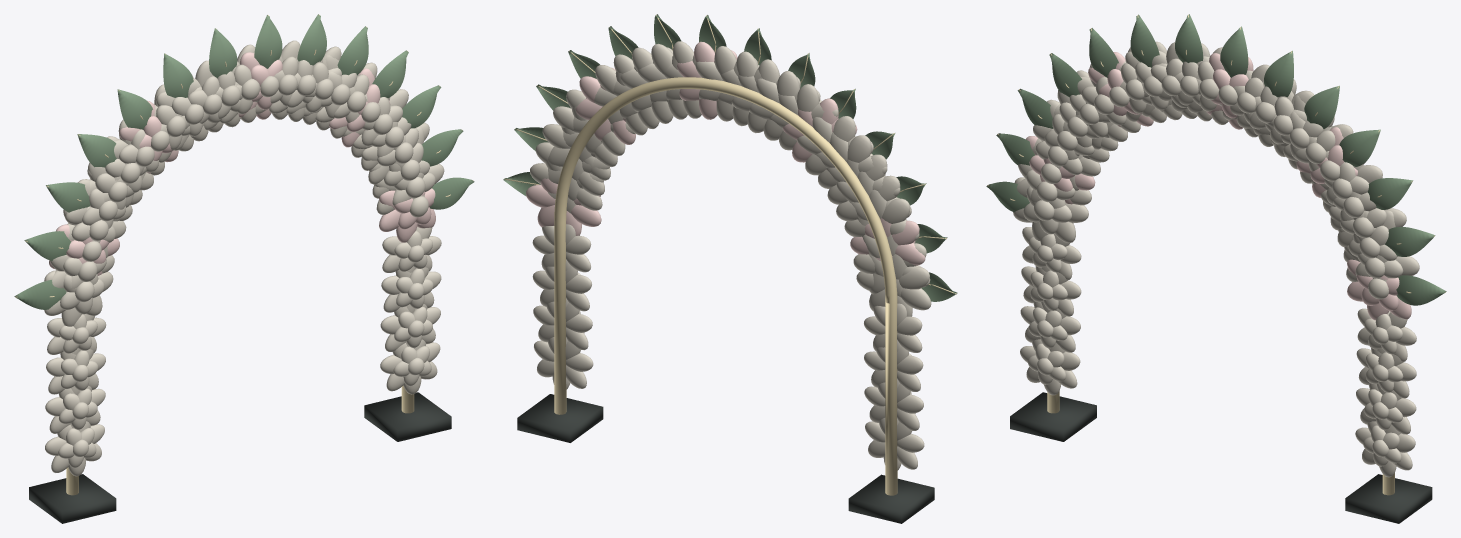
File: floral-arch.glb
3 renders of one model, left to right at view 1: azimuth 30°, elevation 25°; view 2: azimuth 150°, elevation 25°; view 3: azimuth 330°, elevation 25°, orthographic.
Parts seen in each view (by area): view 1: petals-6, leaf-4, heart-3, petals-2, feet-1, arch-frame-0; view 2: petals-6, arch-frame-0, leaf-4, petals-2, feet-1, vein-5; view 3: petals-6, leaf-4, heart-3, petals-2, feet-1.
Boxes of the visible parts, x1=… form: petals-6: x1=44, y1=40, x2=444, y2=476; leaf-4: x1=14, y1=14, x2=474, y2=309; heart-3: x1=72, y1=74, x2=428, y2=457; petals-2: x1=49, y1=52, x2=435, y2=275; feet-1: x1=29, y1=392, x2=451, y2=523; arch-frame-0: x1=66, y1=385, x2=414, y2=495; petals-6: x1=530, y1=41, x2=931, y2=470; arch-frame-0: x1=554, y1=77, x2=897, y2=495; leaf-4: x1=503, y1=14, x2=957, y2=301; petals-2: x1=526, y1=41, x2=925, y2=265; feet-1: x1=517, y1=394, x2=934, y2=523; vein-5: x1=504, y1=14, x2=956, y2=294; petals-6: x1=1013, y1=41, x2=1419, y2=477; leaf-4: x1=986, y1=14, x2=1446, y2=305; heart-3: x1=1034, y1=75, x2=1388, y2=457; petals-2: x1=1026, y1=52, x2=1411, y2=320; feet-1: x1=1010, y1=392, x2=1432, y2=523.
Bounding box in the file's own units: 3.83 × 3.56 × 0.48.
